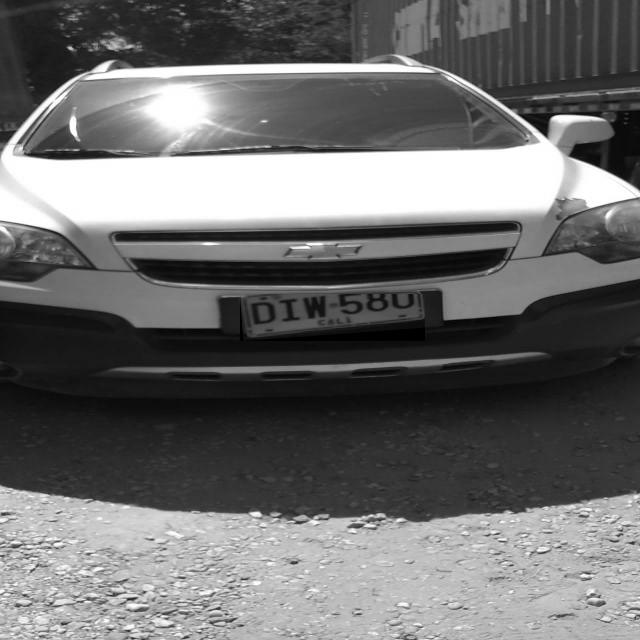plate: (240, 294, 425, 341)
